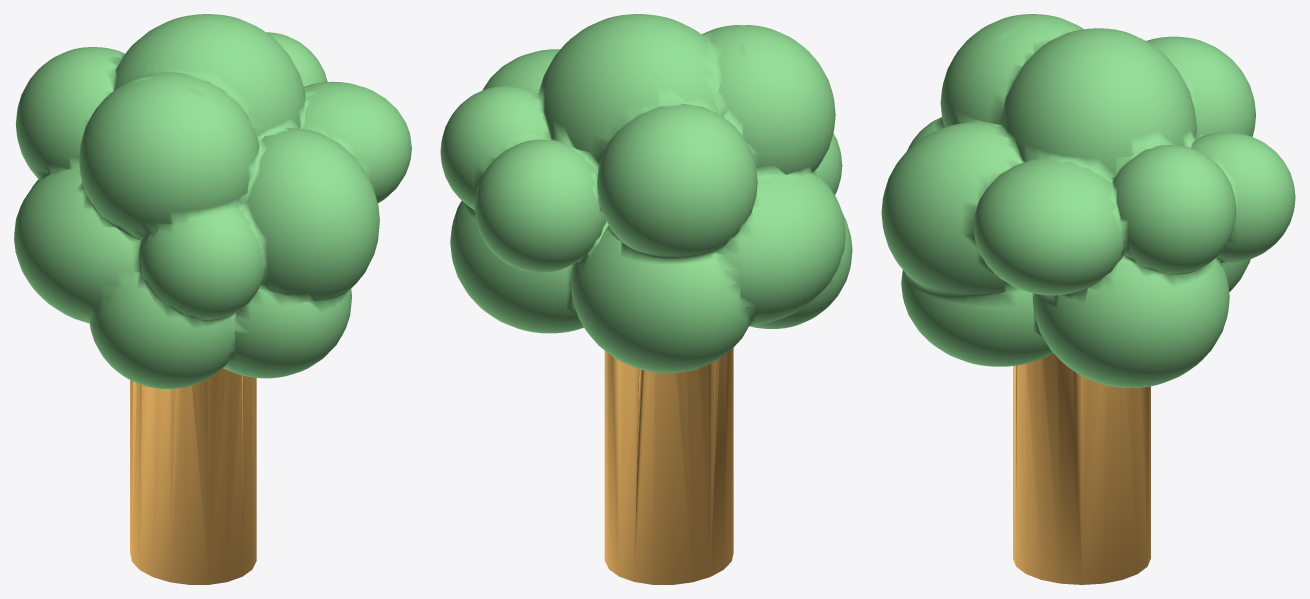
Rendered from level7.glb.
3 renders of one model, left to right at view 1: azimuth 30°, elevation 25°; view 2: azimuth 150°, elevation 25°; view 3: azimuth 270°, elevation 25°, orthographic. The views are drawn at different scales.
Visible parts, largest first — view 1: obj_0.006; view 2: obj_0.006; view 3: obj_0.006.
Boxes of the visible parts, x1,y1,x2,y2 form: obj_0.006: [14, 14, 411, 584]; obj_0.006: [440, 14, 852, 584]; obj_0.006: [881, 14, 1295, 584].
Size of the model in its own units: 63 by 89 by 63.
